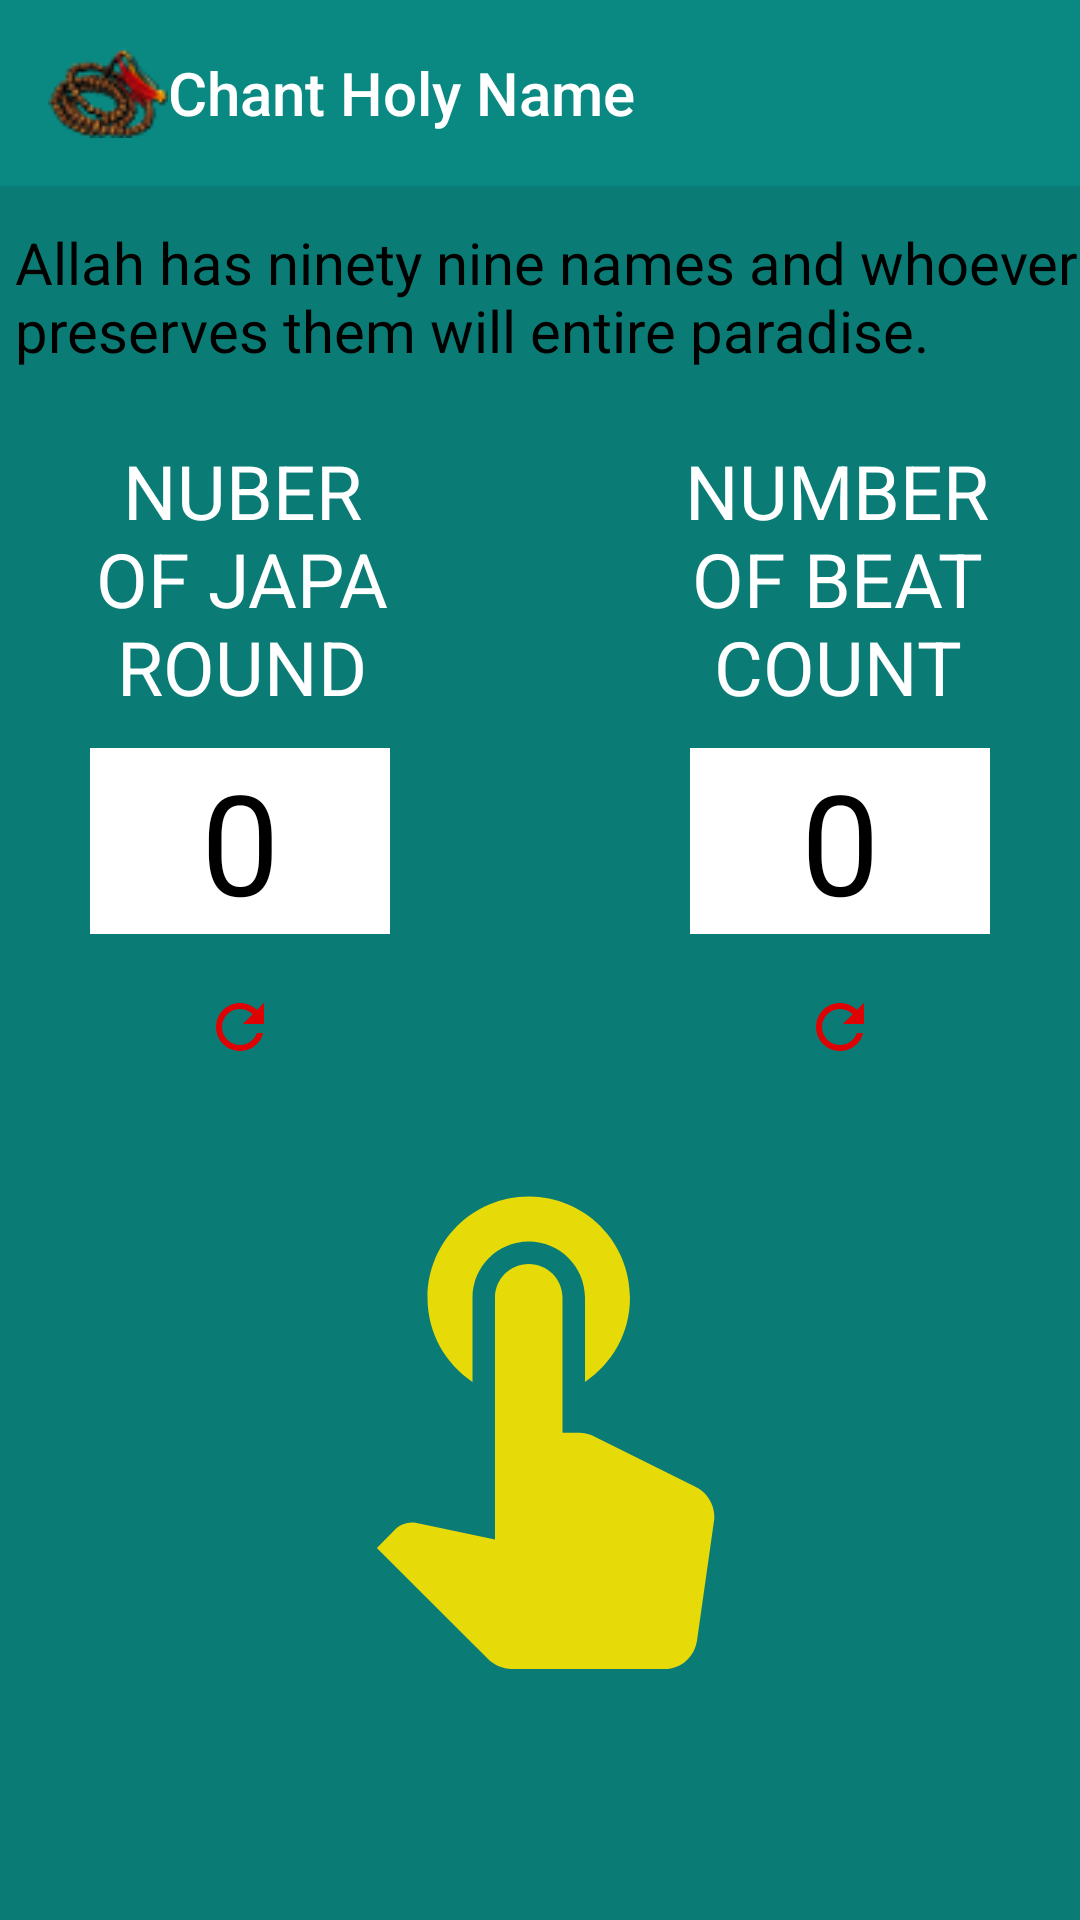

Named icons in this screenshot (1080x1920) and their centers, (x=x, y=y):
refresh: (x=240, y=1027), (x=840, y=1027)
